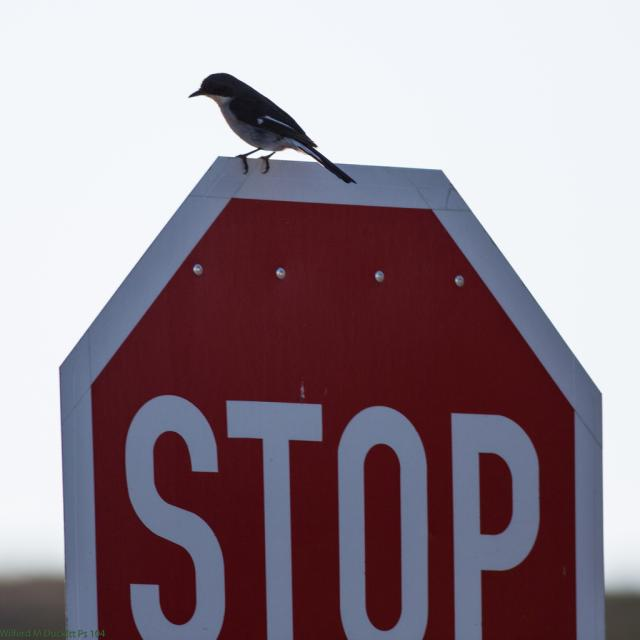Stop-sign: (58, 155, 606, 640)
